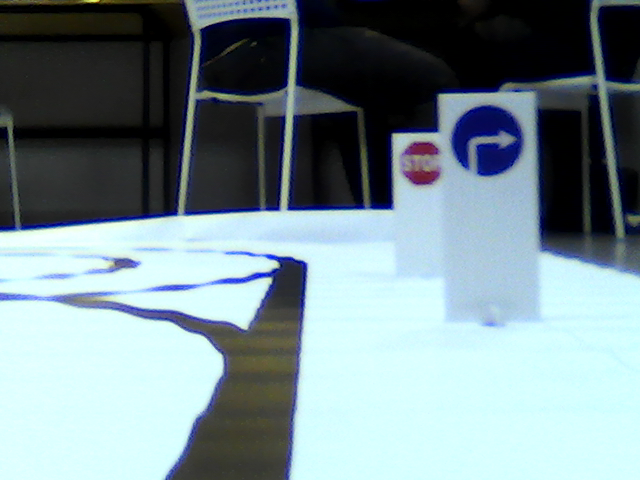Right: (449, 105, 527, 173)
Stop: (400, 140, 441, 186)
